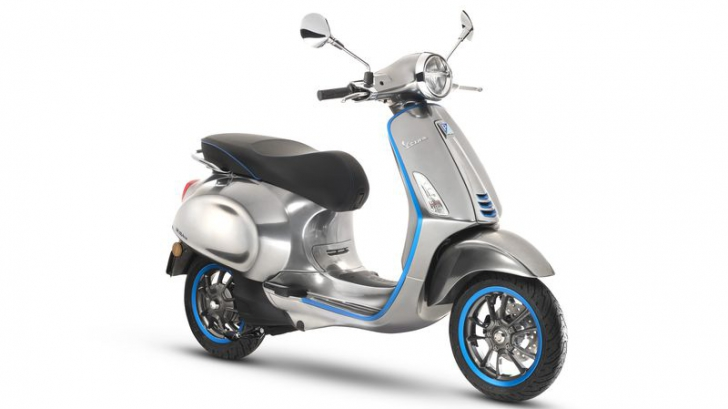motorcycle: (159, 6, 572, 402)
